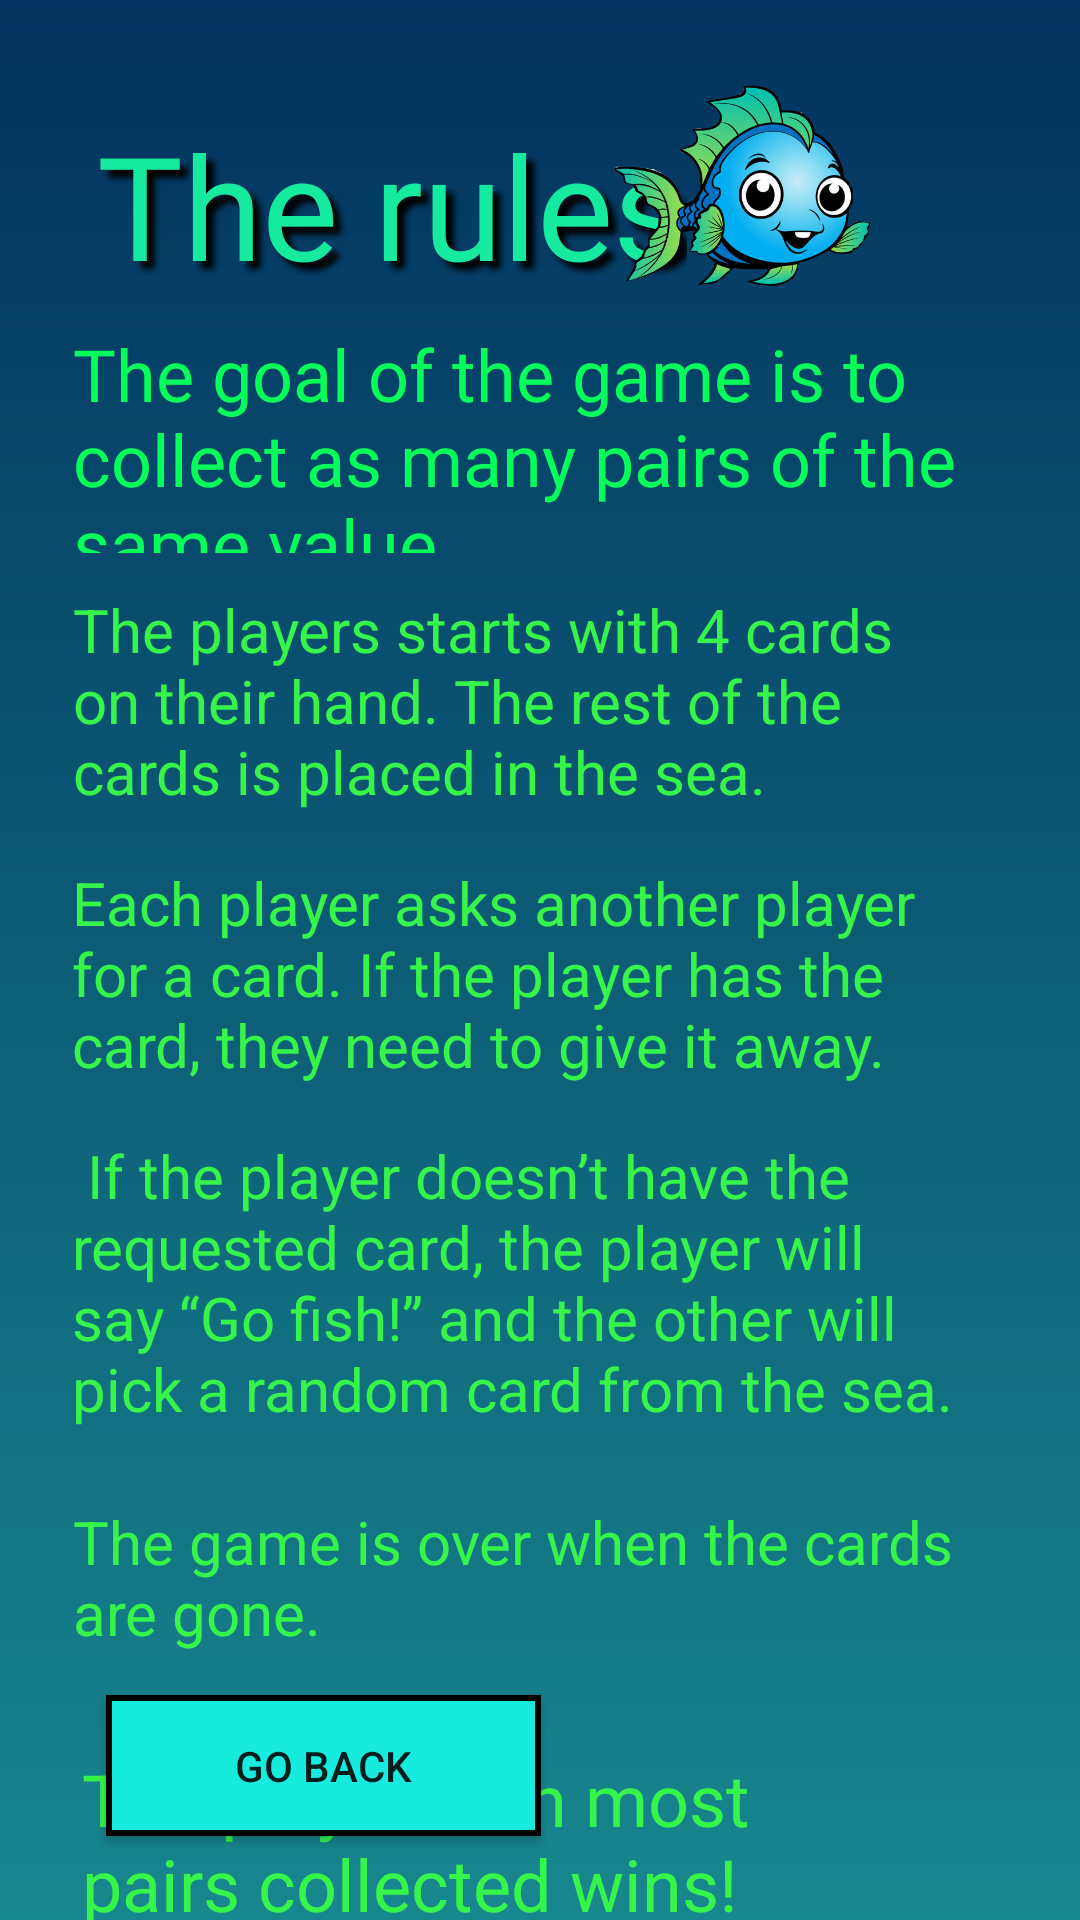

Where to tap for icons on this 1080px×1920px app screen, as (x,y):
bluefish: (743,186)
